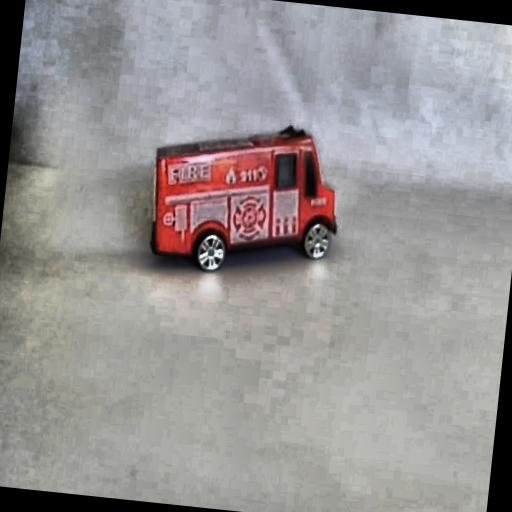fire_truck: (140, 108, 350, 290)
